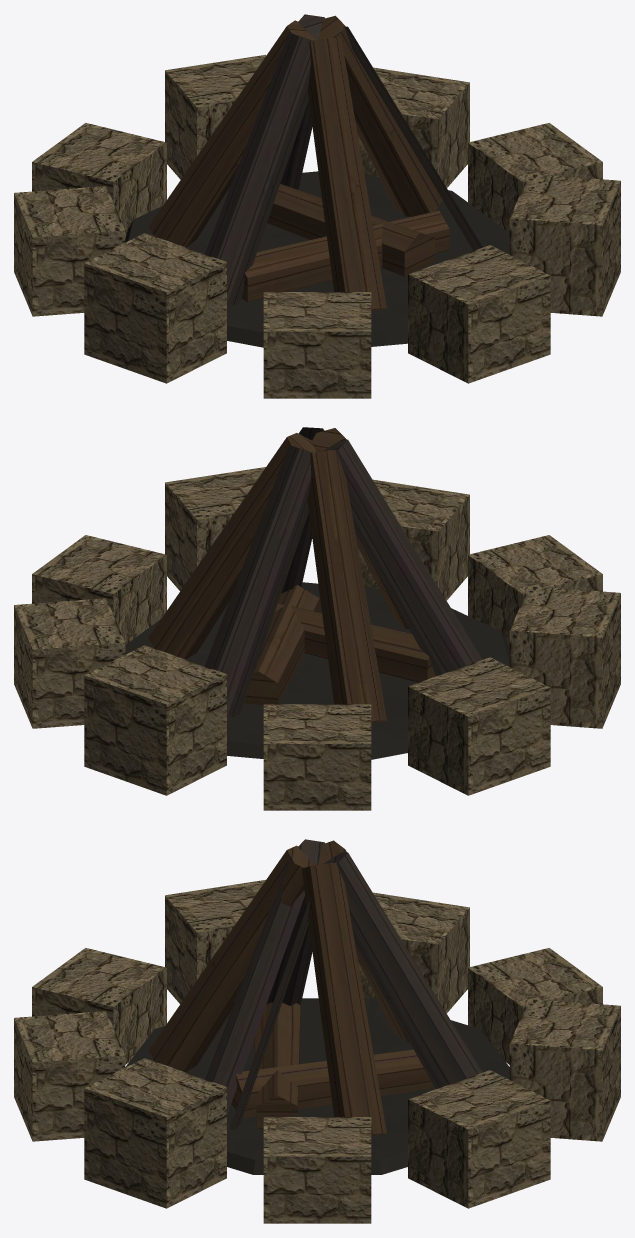
File: campfire_logs_01.glb
The picture shows the model from 3 angles, top to bottom: view 1: azimuth 30°, elevation 25°; view 2: azimuth 150°, elevation 25°; view 3: azimuth 270°, elevation 25°; orthographic projection.
Parts seen in each view (by area): view 1: campfire_logs_01; view 2: campfire_logs_01; view 3: campfire_logs_01.
Boxes of the visible parts, x1=… form: campfire_logs_01: x1=14, y1=14, x2=620, y2=398; campfire_logs_01: x1=14, y1=427, x2=620, y2=810; campfire_logs_01: x1=14, y1=839, x2=620, y2=1223.
Size of the model in its own units: 1.78 by 0.8094 by 1.81.
4 materials, 4 textured.
